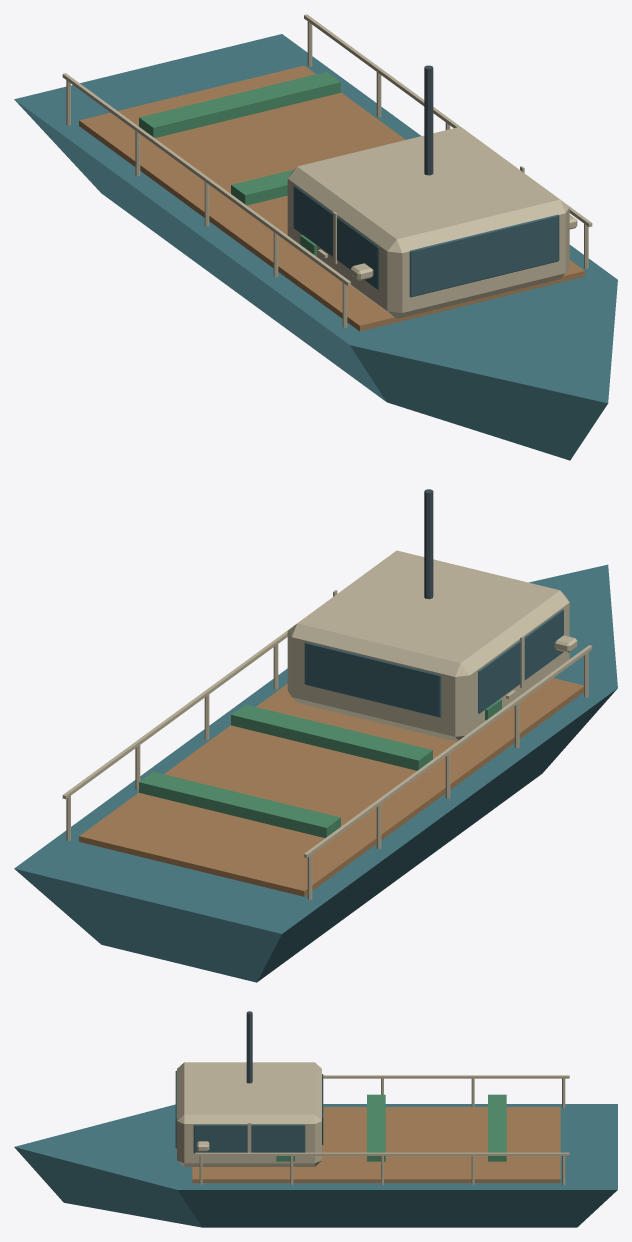
File: vessel_ferry.glb
The picture shows the model from 3 angles, top to bottom: view 1: azimuth 30°, elevation 25°; view 2: azimuth 150°, elevation 25°; view 3: azimuth 270°, elevation 25°; orthographic projection. The views are drawn at different scales.
Visible parts, largest first — view 1: vessel_ferry; view 2: vessel_ferry; view 3: vessel_ferry.
Boxes of the visible parts, x1,y1,x2,y2 form: vessel_ferry: [14, 14, 617, 460]; vessel_ferry: [14, 489, 617, 982]; vessel_ferry: [14, 1011, 617, 1227].
Bounding box in the file's own units: 3.7 × 3.82 × 11.
